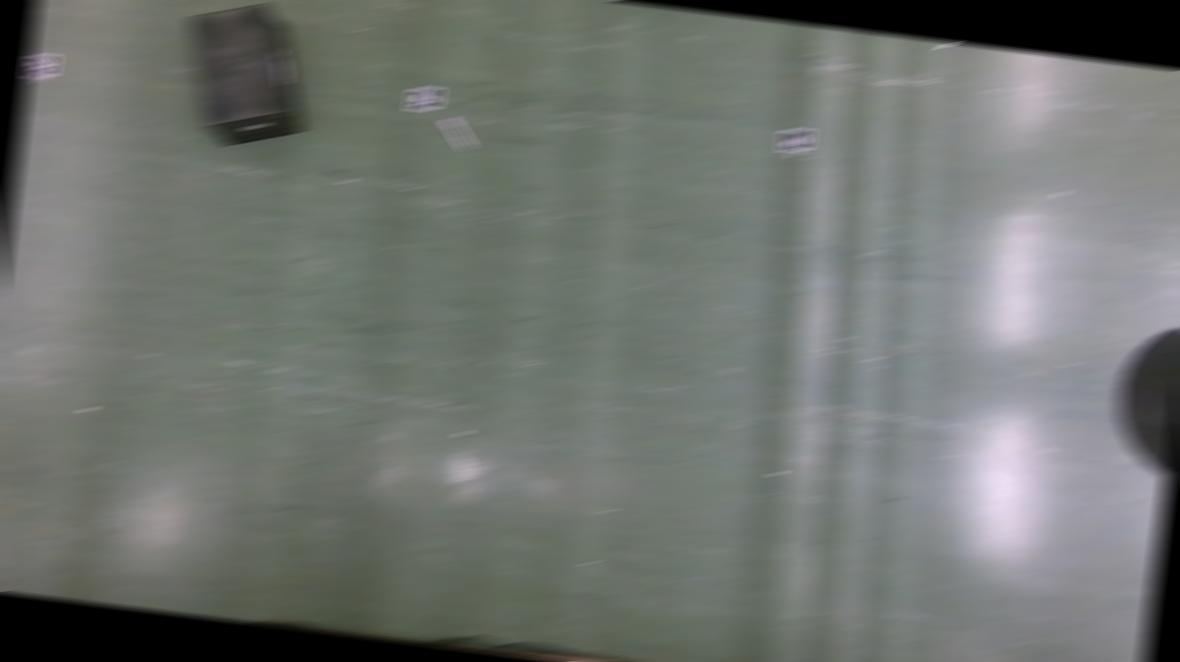probes: (439, 118, 478, 152), (938, 41, 970, 51)
rako: (171, 1, 316, 156)
